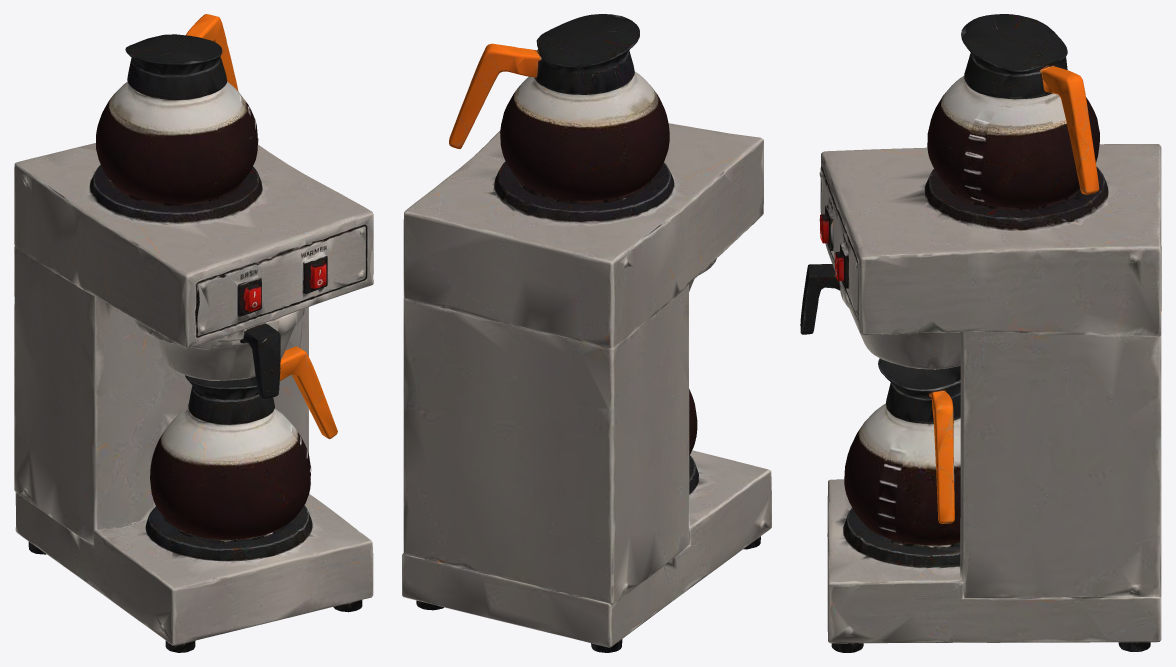
Rendered from coffee.glb.
3 views of the same model, side by side, from view 1: azimuth 30°, elevation 25°; view 2: azimuth 150°, elevation 25°; view 3: azimuth 270°, elevation 25° (orthographic). The views are drawn at different scales.
Size of the model in its own units: 0.8346 by 1.9 by 1.1.
Materials: 1 (1 with a texture image).
